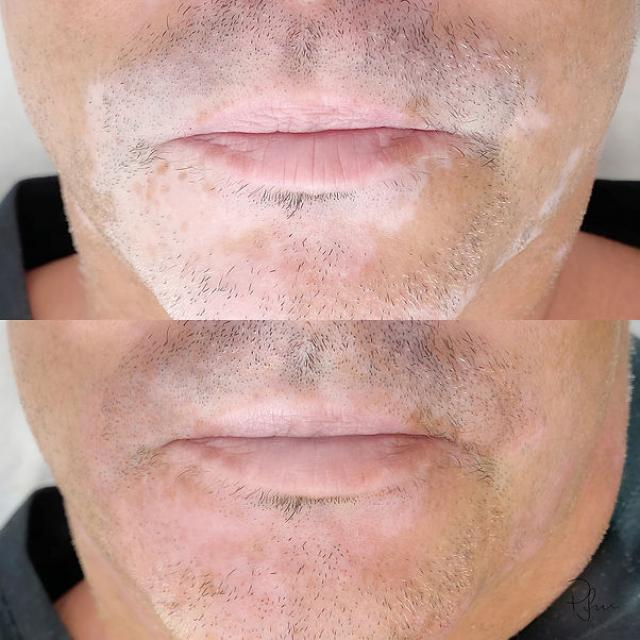vitiligo: (57, 42, 582, 292)
